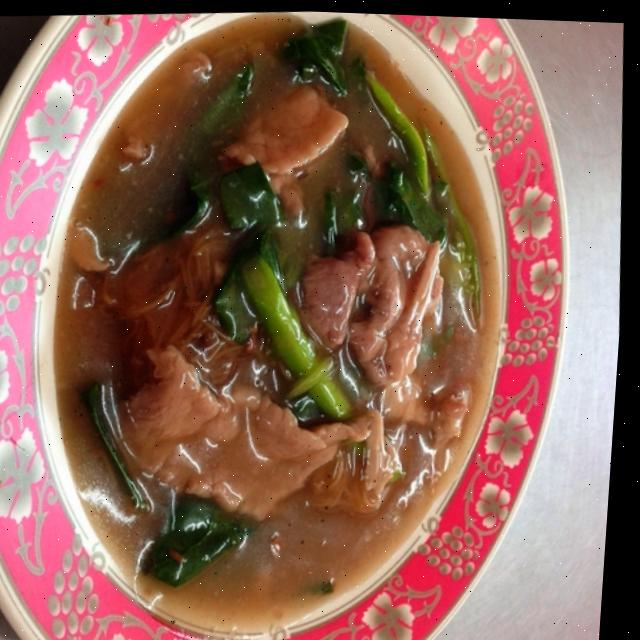面条主食: (14, 1, 593, 640)
